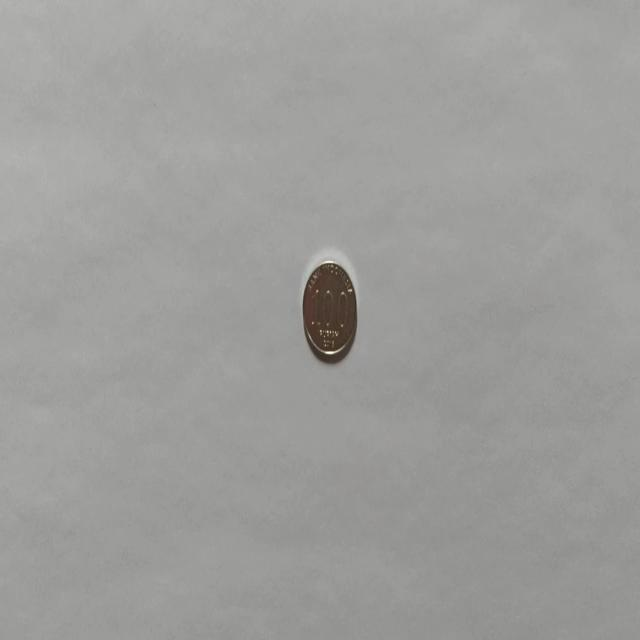seratus rupiah: (300, 258, 358, 362)
